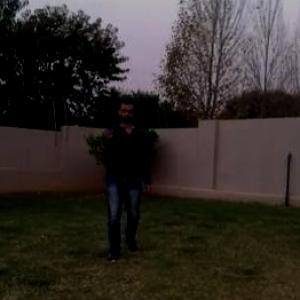takeoff-hand: (99, 116, 119, 148)
